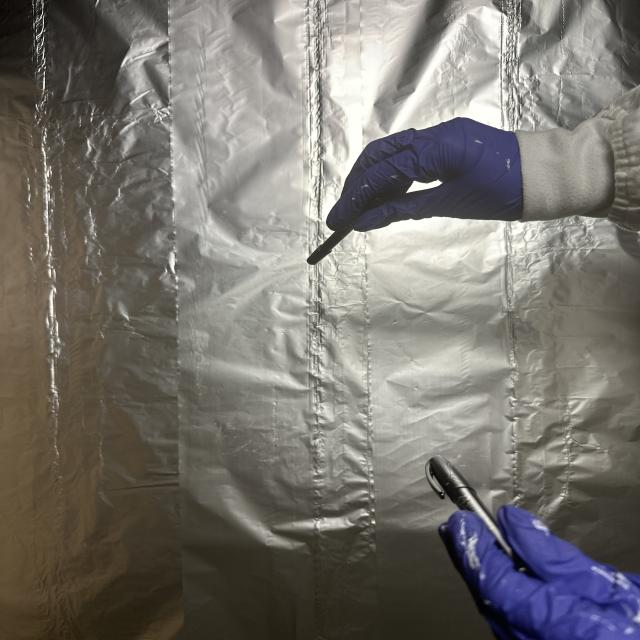gloves_contaminated: (440, 505, 640, 640), (327, 118, 523, 232)
